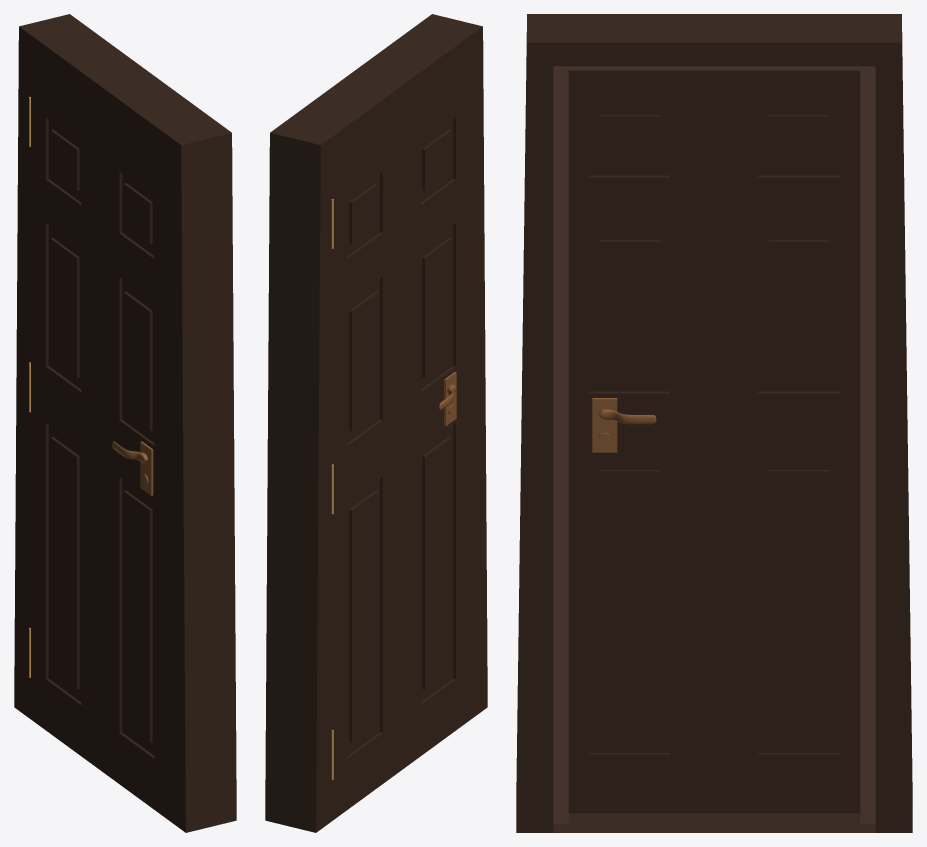
File: deur.fbx
The picture shows the model from 3 angles, left to right: view 1: azimuth 30°, elevation 25°; view 2: azimuth 150°, elevation 25°; view 3: azimuth 270°, elevation 25°; orthographic projection. The views are drawn at different scales.
Parts seen in each view (by area): view 1: deur, deurpost, hendel basis binnen; view 2: deur, deurpost, hendel basis binnen; view 3: deur, deurpost, deurpost L, deurpost R, deurpost boven, hendel basis binnen.001.
Part boxes in pixels (x1,y1,x2,y2): deur: (30,55,169,820); deurpost: (14,14,236,832); hendel basis binnen: (140,441,153,495); deur: (332,55,471,820); deurpost: (265,14,487,832); hendel basis binnen: (444,372,456,426); deur: (568,70,860,813); deurpost: (516,14,912,832); deurpost L: (553,66,568,823); deurpost R: (860,66,875,823); deurpost boven: (568,66,860,70); hendel basis binnen.001: (592,398,617,452).
Size of the model in its own units: 20.4 by 206 by 93.79.
